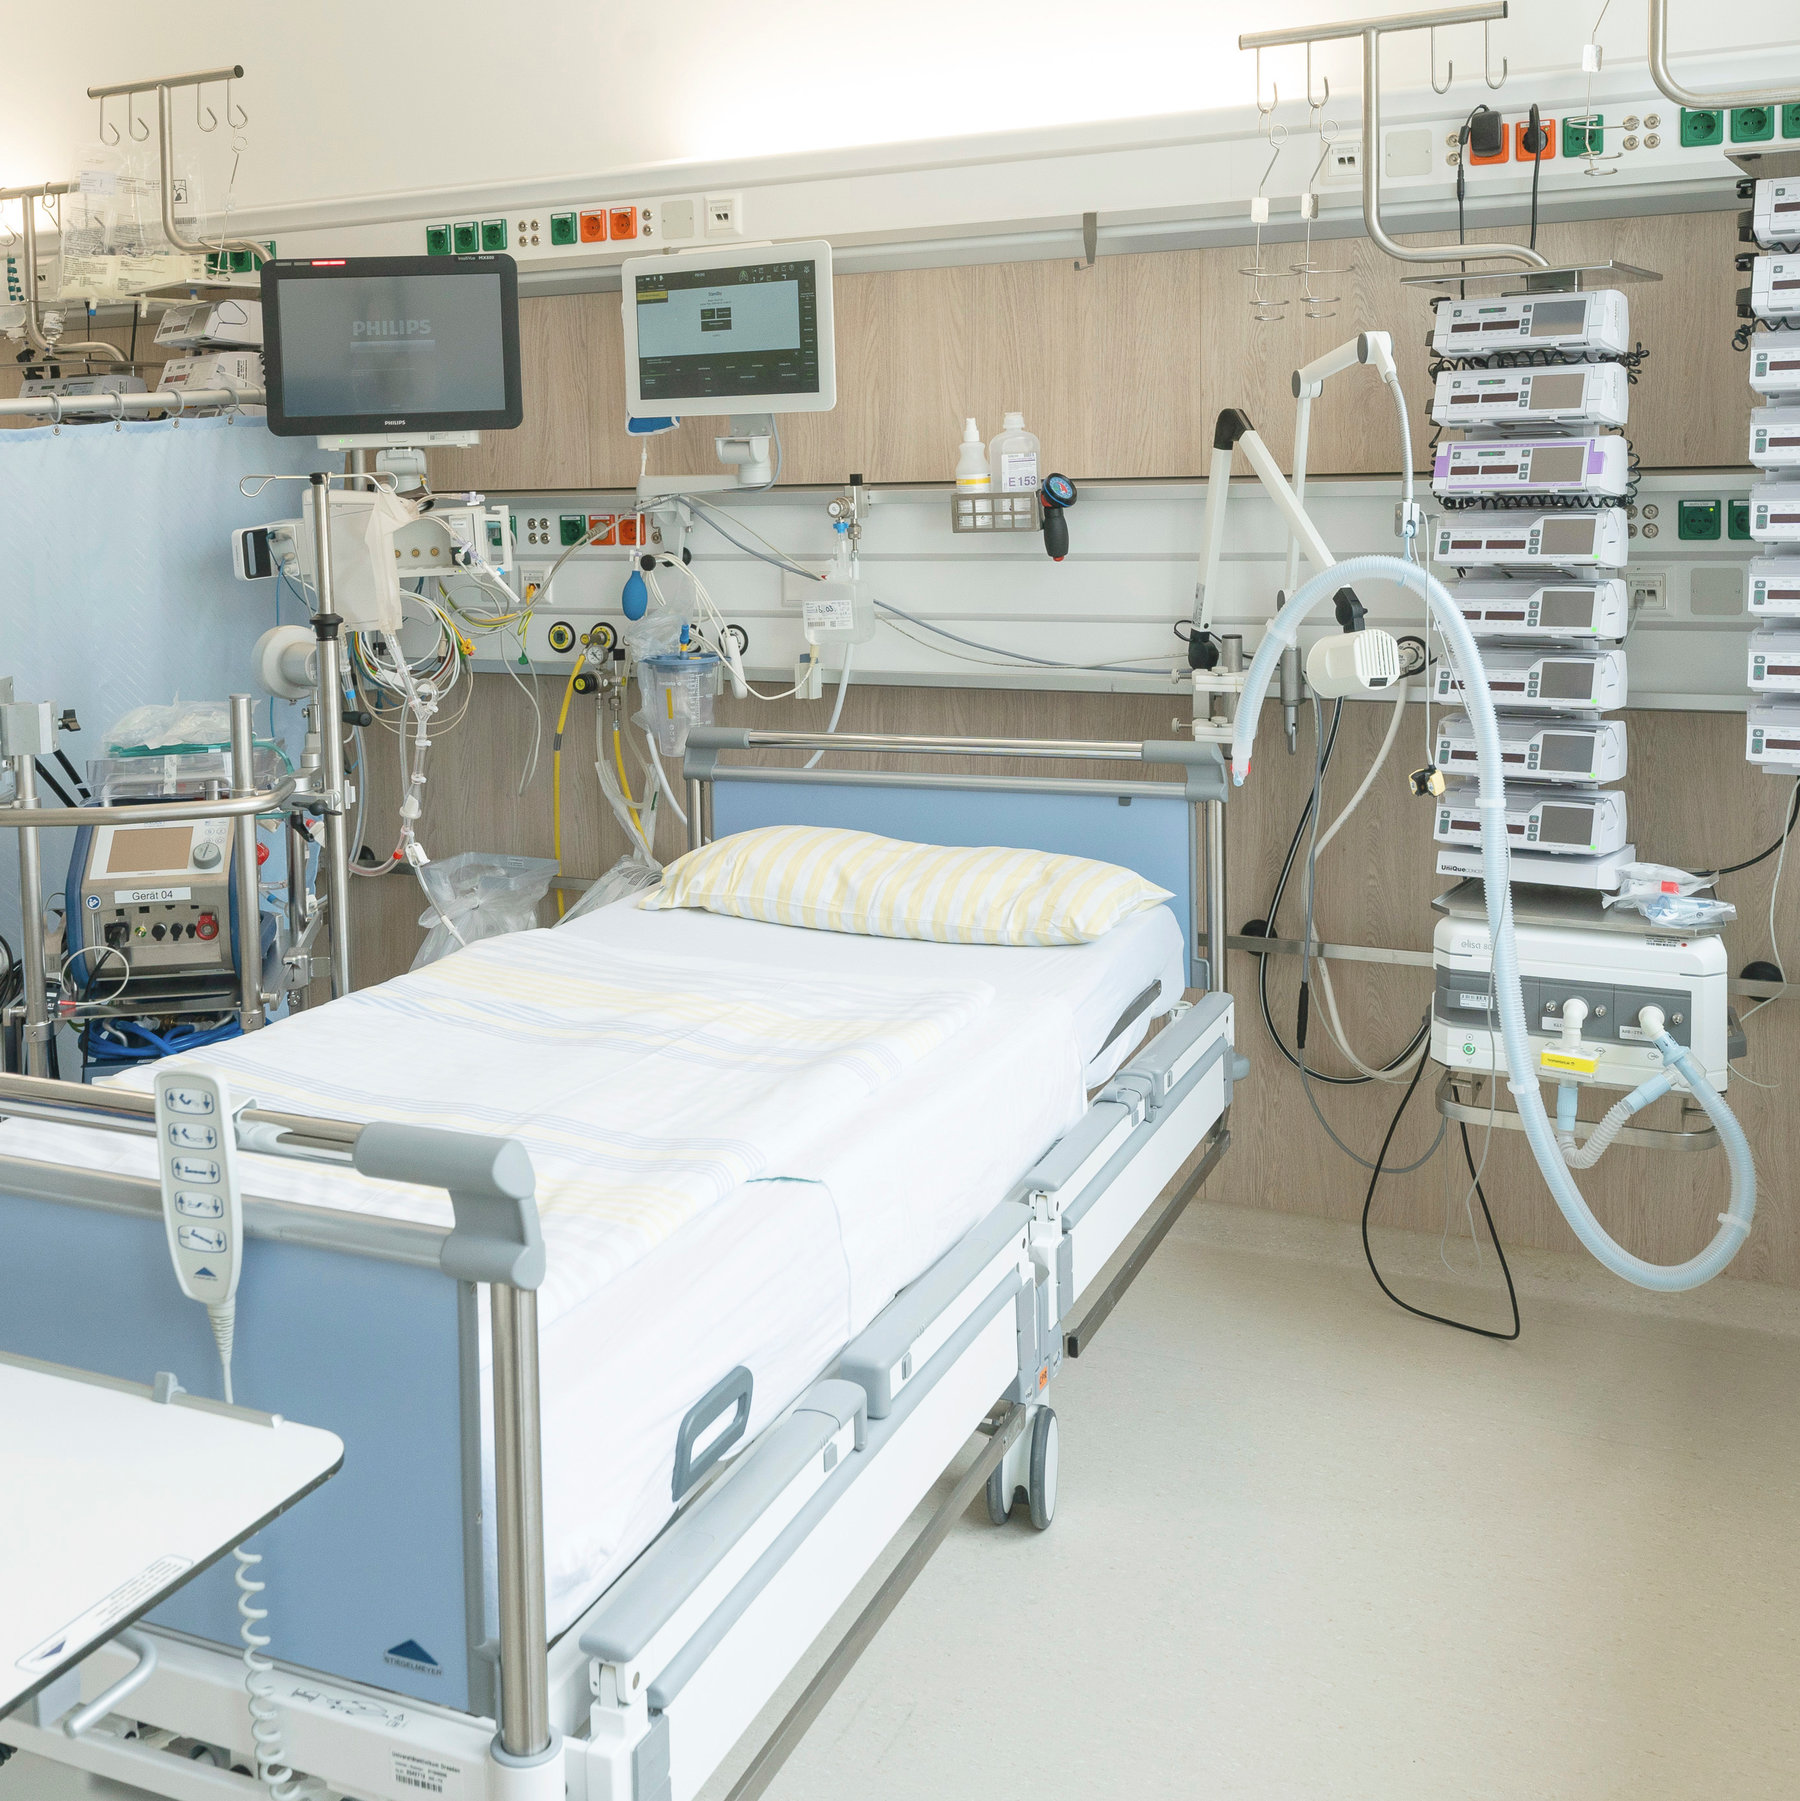bedside_monitor: (259, 252, 524, 433), (613, 249, 832, 415)
breathing_tube: (1235, 539, 1747, 1369), (1225, 601, 1241, 615)
hospital_bed: (2, 723, 1236, 1801)
iv_pole: (231, 470, 412, 999), (1230, 7, 1528, 277), (81, 58, 260, 250)
overbed_table: (2, 1353, 345, 1730)
syringe_pump: (1704, 185, 1800, 783), (1416, 812, 1634, 890), (1414, 720, 1625, 784), (1418, 438, 1629, 488), (1421, 669, 1632, 717), (1423, 592, 1634, 639), (1416, 512, 1627, 560), (1419, 376, 1630, 423), (1414, 293, 1625, 341)
ventilator: (1416, 895, 1731, 1223)
